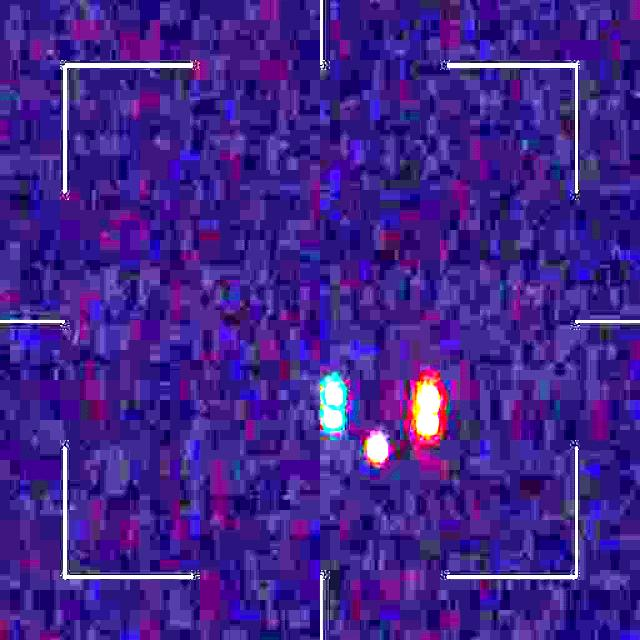bird: (321, 378, 441, 462)
